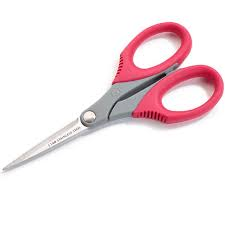tihiras: (2, 18, 224, 183)
